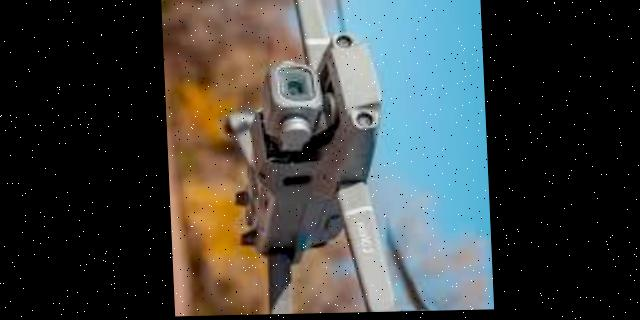drone: (200, 0, 490, 317)
